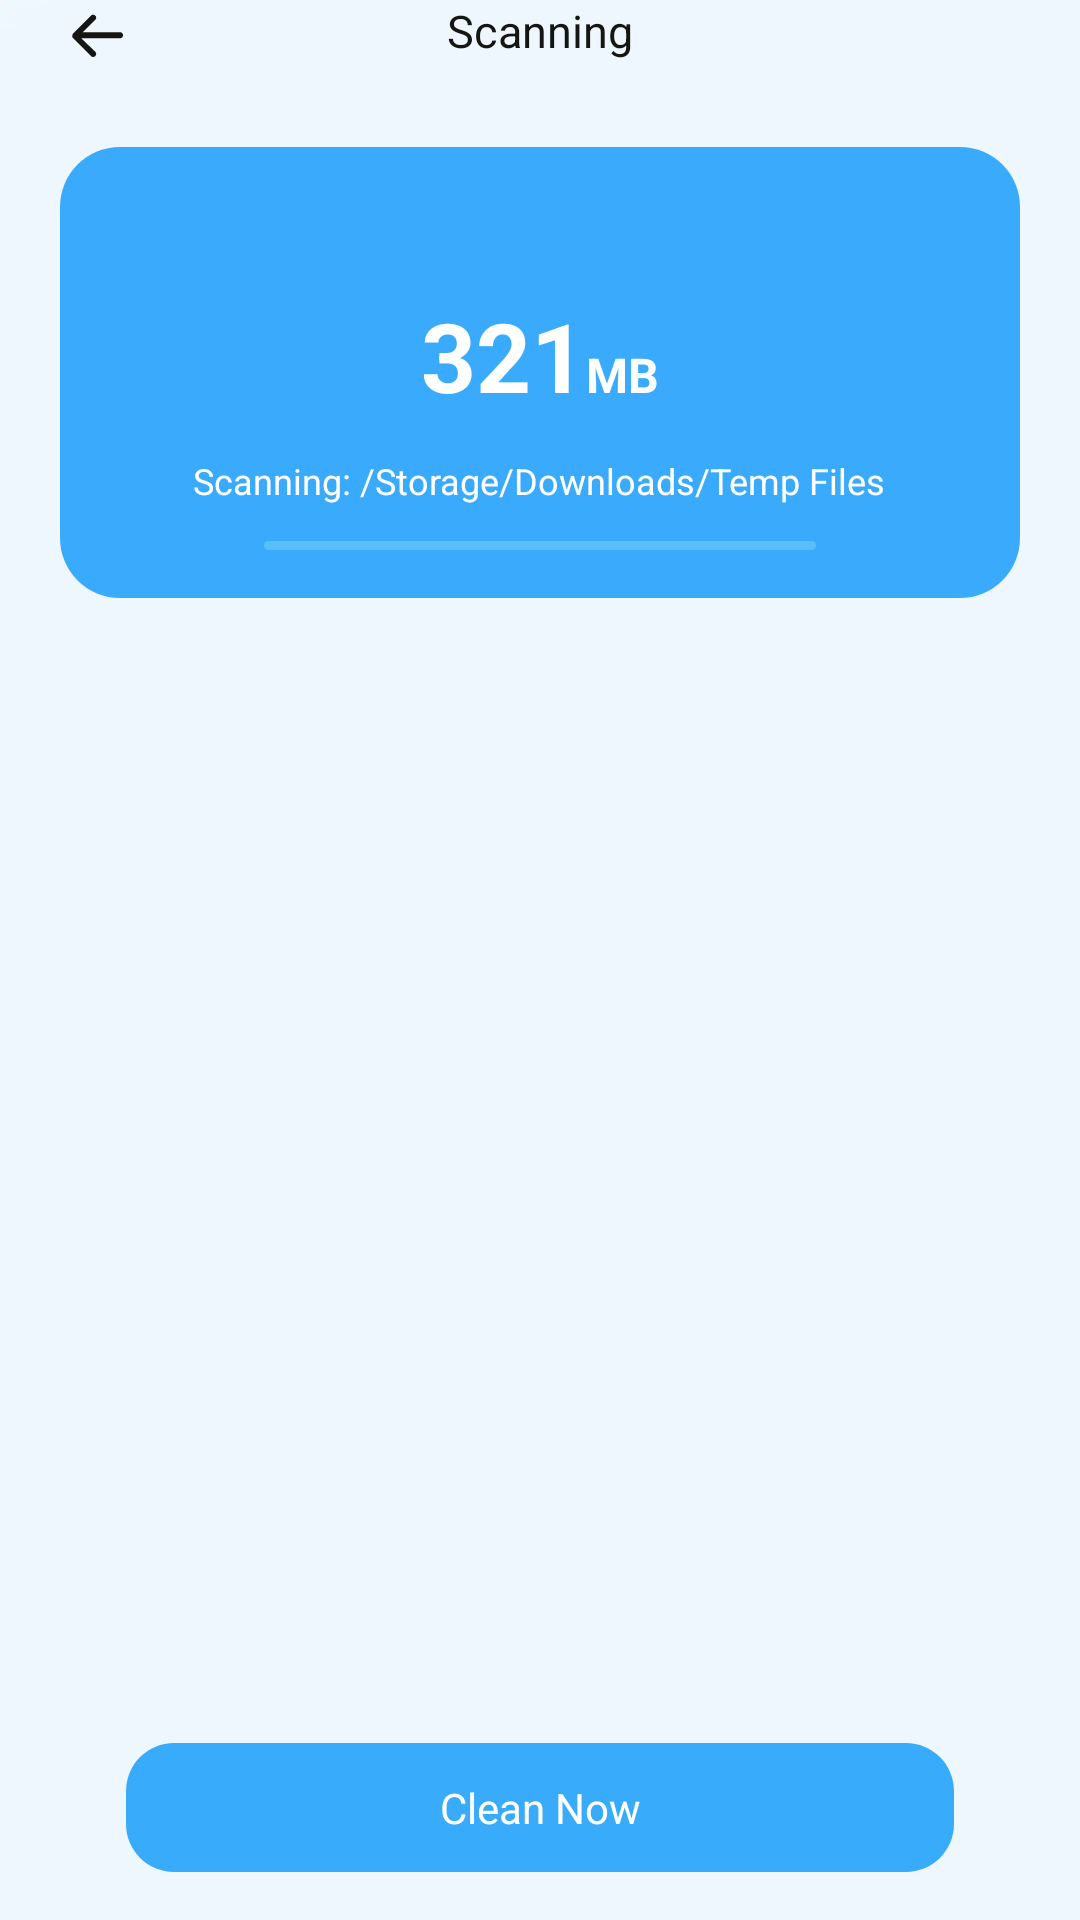

Screen size 1080 x 1920. Icon name, then its box in pixels as [x1,y1,x2,y2]:
tui hei: [72,14,123,57]
